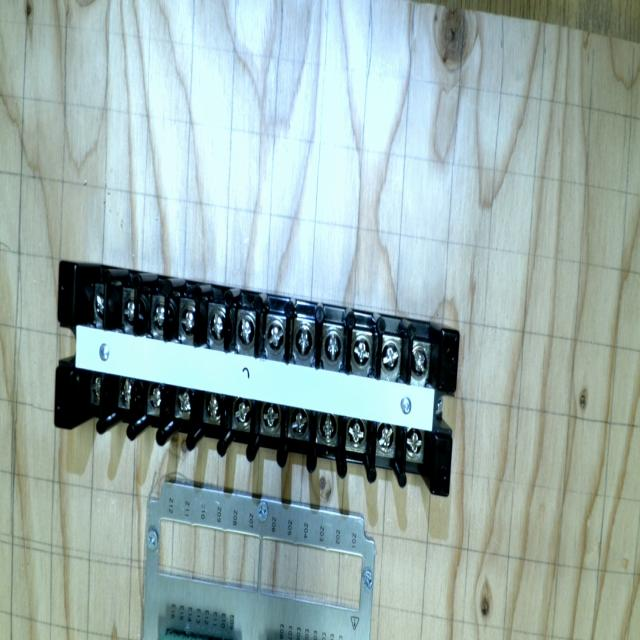Phillips_Block: (31, 260, 477, 496)
